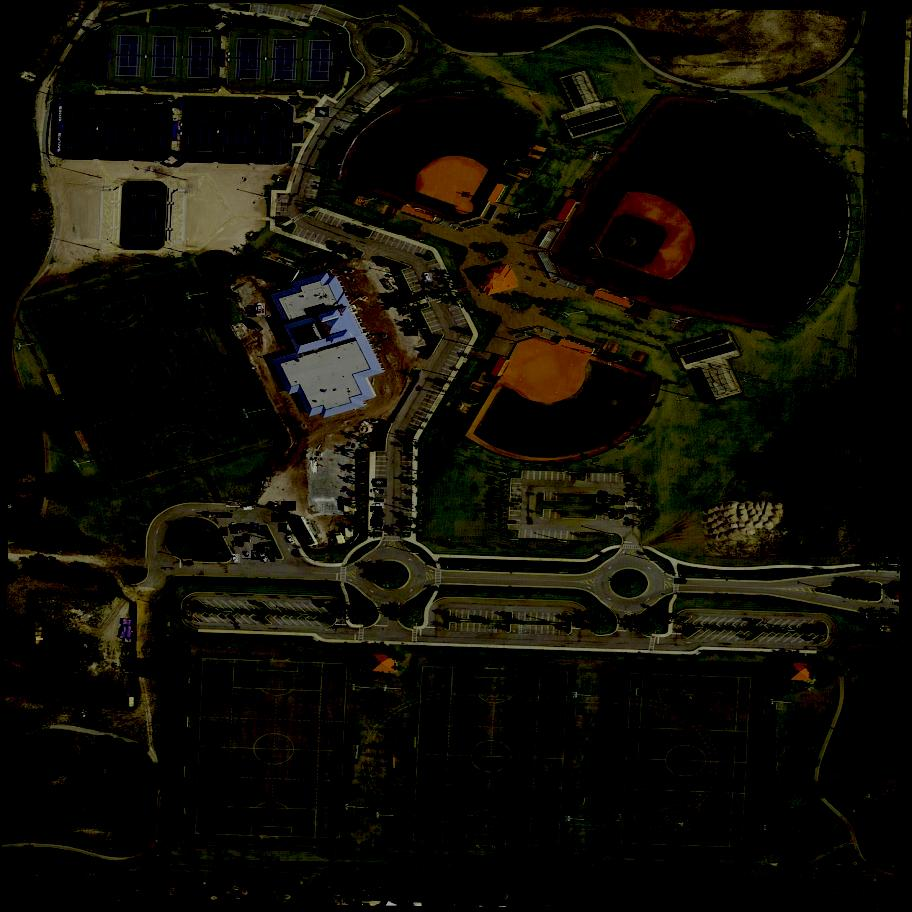small-vehicle: (281, 499, 297, 513), (405, 324, 418, 336), (255, 302, 266, 316), (248, 305, 259, 319), (315, 107, 330, 117), (372, 479, 387, 488), (254, 542, 265, 554), (241, 550, 252, 561), (251, 551, 262, 562), (286, 535, 296, 547), (272, 513, 284, 523), (266, 551, 276, 563), (404, 319, 415, 329), (250, 522, 260, 533), (260, 554, 271, 564), (279, 522, 288, 534), (372, 489, 387, 496), (370, 520, 384, 527), (230, 523, 238, 535), (373, 511, 386, 518), (396, 520, 411, 526), (236, 535, 244, 546), (220, 526, 228, 537), (233, 553, 241, 564), (371, 506, 383, 513), (424, 273, 432, 283), (372, 503, 385, 509), (507, 519, 519, 525), (674, 578, 686, 584), (372, 515, 382, 522), (238, 523, 245, 531), (227, 504, 240, 507), (243, 535, 249, 541), (373, 526, 384, 529), (244, 506, 252, 510), (247, 524, 252, 530), (183, 561, 193, 563)
